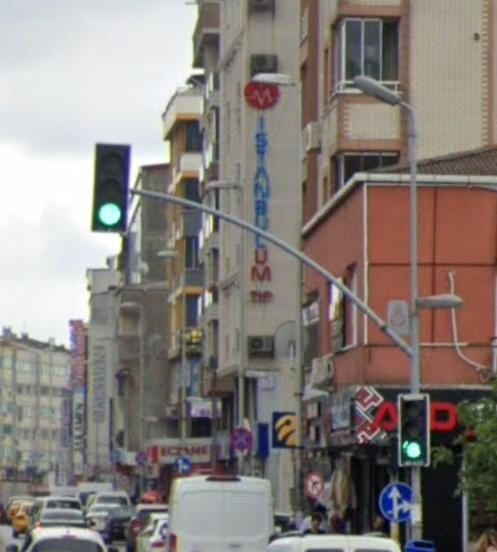greenlight: (93, 142, 126, 227), (401, 393, 427, 460)
rightturnsareforbidden: (303, 470, 327, 498)
